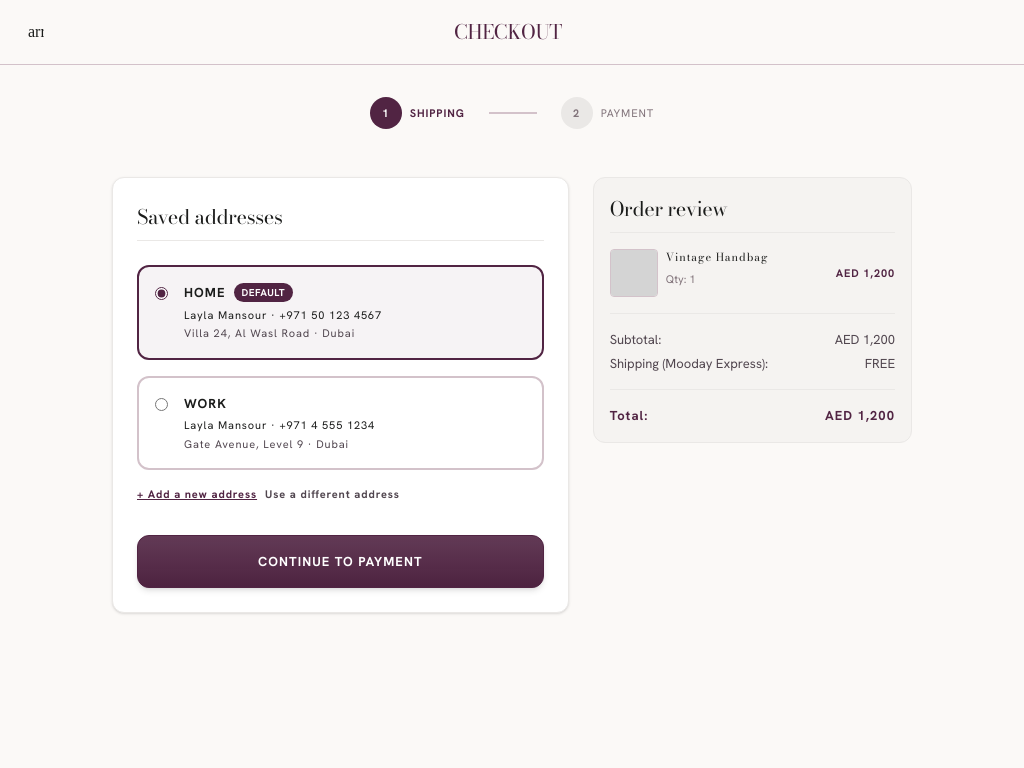
Test: CheckoutFlowView — address step (C-13) › selecting a different address switches the radio
Click the radio button with aria-label "Work — Gate Avenue" at (162, 404), box [155, 398, 168, 410]
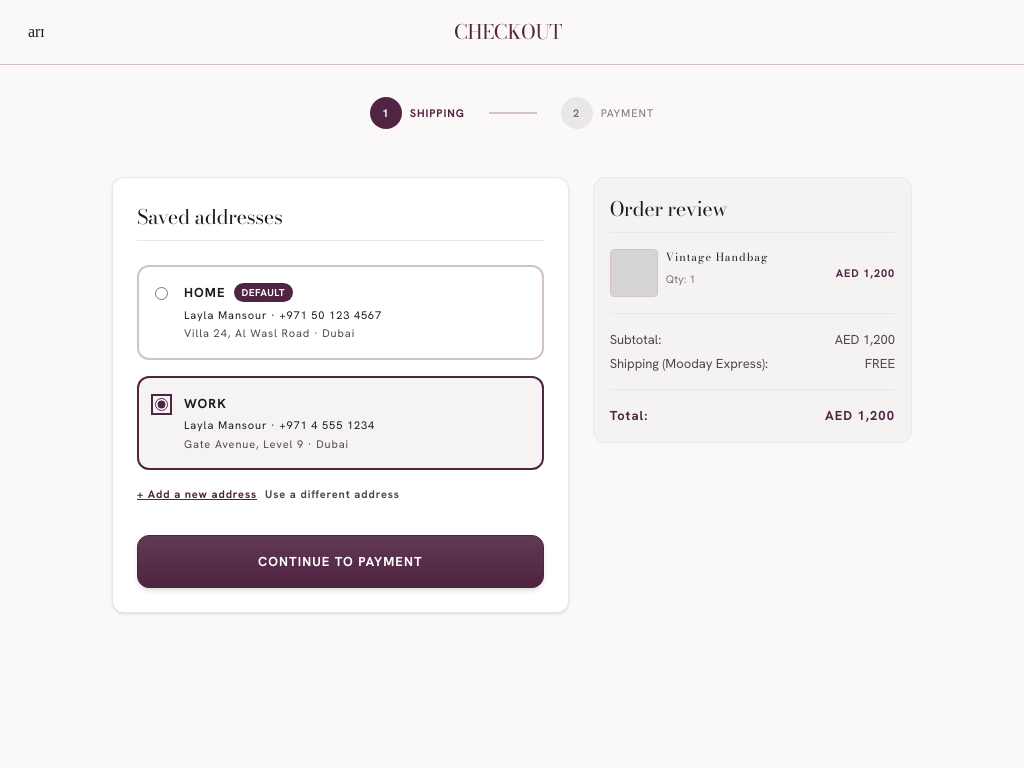
Now the radio button with aria-label "Work — Gate Avenue" is checked, box [155, 398, 168, 410]
Now the radio button with aria-label "Home — Villa 24" is not checked, box [155, 287, 168, 300]
